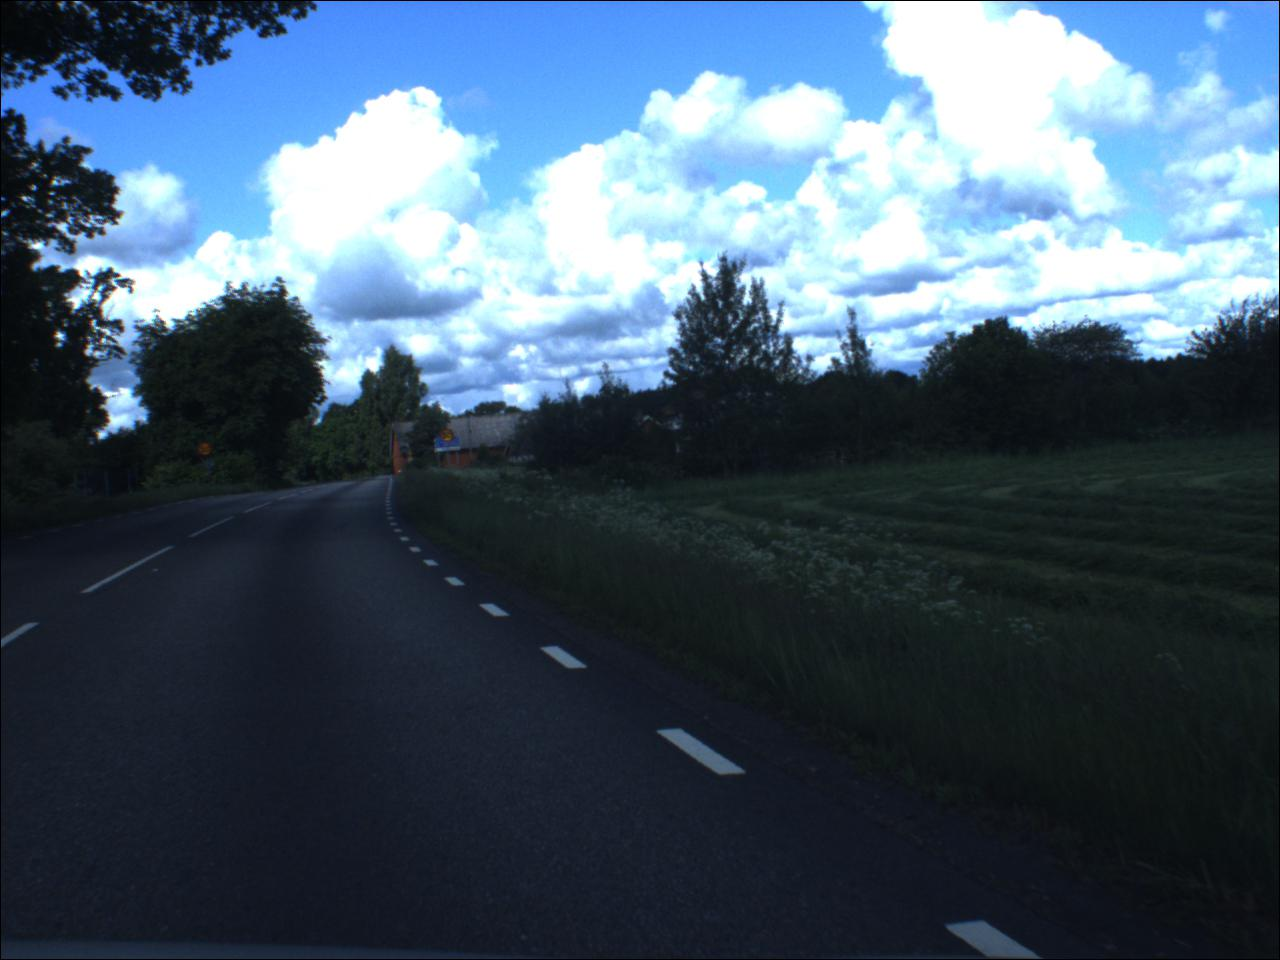50_SIGN: (199, 442, 214, 459), (442, 431, 459, 445)
